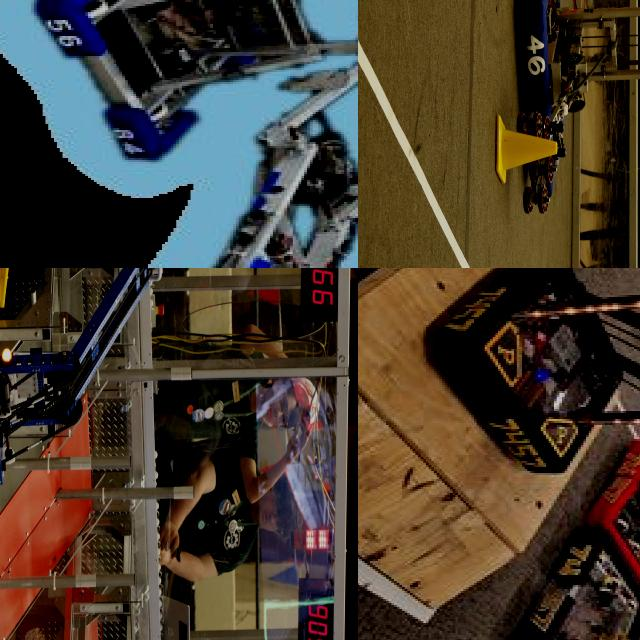FRC-Robots: (9, 0, 358, 268), (0, 268, 231, 640), (463, 268, 640, 490), (509, 0, 640, 220), (486, 573, 640, 640), (582, 467, 640, 529)
